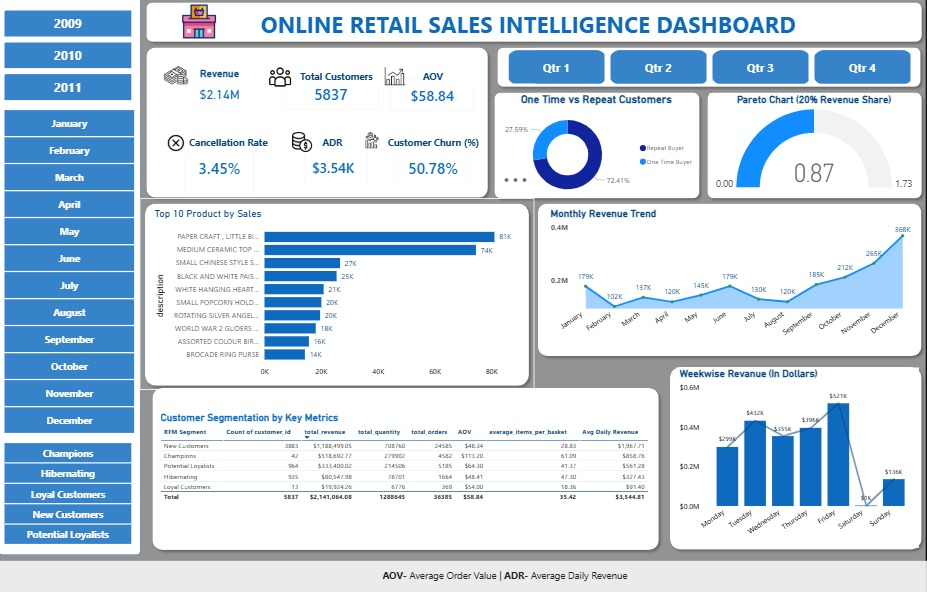

The dashboard page shown, as its layout file describes it:
{"tool":"powerbi","page":{"name":"Page 1","canvas":[1560,1000],"ordinal":0},"visuals":[{"type":"shape","box":[830.1,149.7,359.7,194.4],"z":1000},{"type":"shape","box":[248.8,75.8,587.1,268.3],"z":2000},{"type":"card","title":"Revenue","fields":{"Values":["online_retail_data.total_revenue"]},"box":[294,118,172,68],"z":3000},{"type":"shape","box":[248.8,0,1310.3,83.6],"z":4000},{"type":"textbox","box":[248,14,1296,70],"z":5000},{"type":"shape","box":[836,75.8,723.2,83.6],"z":6000},{"type":"cardVisual","title":"Total Customers","fields":{"Data":["Count(online_retail_data.customer_id)"]},"box":[468,116,196,90],"z":7000},{"type":"cardVisual","title":"Average Order Value","fields":{"Data":["online_retail_data.AOV"]},"box":[647.4,116.6,175,89.4],"z":8000},{"type":"donutChart","title":"One Time vs Repeat Customers","fields":{"Category":["Customer_Type_Table.Buyer Type"],"Y":["Sum(Customer_Type_Table.customer_id)"]},"box":[836,159.4,348,184.7],"z":9000},{"type":"textbox","box":[709.1,114.9,97.2,35.3],"z":10000},{"type":"textbox","box":[509.3,114.7,153.6,35],"z":11000},{"type":"cardVisual","fields":{"Data":["online_retail_data.Avg Daily Revenue"]},"box":[504,236,140,94],"z":12000},{"type":"textbox","box":[542.4,225.5,62.2,42.8],"z":13000},{"type":"cardVisual","fields":{"Data":["Customer_Recency_Table.Churned Customers %"]},"box":[654,242,162,80],"z":14000},{"type":"textbox","box":[647.4,225.5,175,36.9],"z":15000},{"type":"shape","box":[13.3,0,236.7,930],"z":16000},{"type":"shape","box":[248,334,658,322],"z":17000},{"type":"shape","box":[902.1,334.4,657.1,272.2],"z":18000},{"type":"shape","box":[260,642,862,288],"z":20000},{"type":"shape","box":[1122.3,607.5,437.4,322.5],"z":21000},{"type":"shape","box":[1183.9,149.7,375.2,194.4],"z":22000},{"type":"shape","box":[0,930.1,1800.5,70.7],"z":23000},{"type":"textbox","box":[648,948,852,52],"z":24000},{"type":"image","box":[248.8,108.9,116.6,40.8],"z":25000},{"type":"image","box":[482.1,225.5,71.9,33],"z":26000},{"type":"image","box":[456.9,114.7,48.6,36.9],"z":27000},{"type":"image","box":[634,114,76,34],"z":28000},{"type":"image","box":[293.6,13.6,108.9,56.4],"z":29000},{"type":"gauge","title":"Pareto Chart (20% Revenue Share)","fields":{"Y":["online_retail_data.top_20_revenue_share"]},"box":[1197.6,159.4,348,169.1],"z":30000},{"type":"cardVisual","fields":{"Data":["online_retail_data.cancellation_rate"]},"box":[304,220,150,124],"z":31000},{"type":"textbox","box":[326,226,152,36],"z":32000},{"type":"image","box":[293.6,225.5,31.1,36.9],"z":33000},{"type":"image","box":[604.6,225.5,60.3,27.2],"z":34000},{"type":"advancedSlicerVisual","fields":{"Values":["online_retail_data.Order Date.Variation.Date Hierarchy.Year"]},"box":[13.3,13.3,232,170.1],"z":35000},{"type":"advancedSlicerVisual","fields":{"Values":["online_retail_data.Order Date.Variation.Date Hierarchy.Month"]},"box":[13.3,183.3,236.7,553.3],"z":36000},{"type":"advancedSlicerVisual","fields":{"Values":["online_retail_data.Order Date.Variation.Date Hierarchy.Quarter"]},"box":[853.5,83.6,692.1,68],"z":37000},{"type":"lineChart","title":"Monthly Revenue Trend","fields":{"Y":["online_retail_data.total_revenue"],"Category":["online_retail_data.Order Date.Variation.Date Hierarchy.Month"]},"box":[928,350,616,236],"z":38000},{"type":"lineStackedColumnComboChart","title":"Weekwise Revanue (In Dollars)","fields":{"Category":["online_retail_data.day_name"],"Y":["online_retail_data.total_revenue"],"Y2":["online_retail_data.total_revenue"]},"box":[1142.1,618.6,404.3,300.4],"z":39000},{"type":"advancedSlicerVisual","fields":{"Values":["RFM Table.RFM Segment"]},"box":[13.3,738.3,231.7,180],"z":41000},{"type":"clusteredBarChart","title":"Top 10 Product by Sales","fields":{"Category":["online_retail_data.description"],"Y":["online_retail_data.total_quantity"]},"box":[268,350,618,292],"z":42000},{"type":"tableEx","title":"Customer Segmentation by Key Metrics","fields":{"Values":["RFM Table.RFM Segment","Count(RFM Table.customer_id)","online_retail_data.total_revenue","online_retail_data.total_quantity","online_retail_data.total_orders","online_retail_data.AOV","online_retail_data.average_items_per_basket","online_retail_data.Avg Daily Revenue"]},"box":[278,674,826,226],"z":43000}]}

Visuals, with their boxes in screenshot pixels (x1, y1, x2, y2), scaled from the page's 1560x1000 canvas onto the 927x592 screenshot:
shape: bbox(493, 89, 707, 204)
shape: bbox(148, 45, 497, 204)
"Revenue" card: bbox(175, 70, 277, 110)
shape: bbox(148, 0, 926, 49)
textbox: bbox(147, 8, 917, 50)
shape: bbox(497, 45, 926, 94)
"Total Customers" cardVisual: bbox(278, 69, 395, 122)
"Average Order Value" cardVisual: bbox(385, 69, 489, 122)
"One Time vs Repeat Customers" donutChart: bbox(497, 94, 704, 204)
textbox: bbox(421, 68, 479, 89)
textbox: bbox(303, 68, 394, 89)
cardVisual - online_retail_data.Avg Daily Revenue: bbox(299, 140, 383, 195)
textbox: bbox(322, 133, 359, 159)
cardVisual - Customer_Recency_Table.Churned Customers %: bbox(389, 143, 485, 191)
textbox: bbox(385, 133, 489, 155)
shape: bbox(8, 0, 149, 551)
shape: bbox(147, 198, 538, 388)
shape: bbox(536, 198, 926, 359)
shape: bbox(154, 380, 667, 551)
shape: bbox(667, 360, 926, 551)
shape: bbox(704, 89, 926, 204)
shape: bbox(0, 551, 926, 591)
textbox: bbox(385, 561, 891, 591)
image: bbox(148, 64, 217, 89)
image: bbox(286, 133, 329, 153)
image: bbox(272, 68, 300, 90)
image: bbox(377, 67, 422, 88)
image: bbox(174, 8, 239, 41)
"Pareto Chart (20% Revenue Share)" gauge: bbox(712, 94, 918, 194)
cardVisual - online_retail_data.cancellation_rate: bbox(181, 130, 270, 204)
textbox: bbox(194, 134, 284, 155)
image: bbox(174, 133, 193, 155)
image: bbox(359, 133, 395, 150)
advancedSlicerVisual - online_retail_data.Order Date.Variation.Date Hierarchy.Year: bbox(8, 8, 146, 109)
advancedSlicerVisual - online_retail_data.Order Date.Variation.Date Hierarchy.Month: bbox(8, 109, 149, 436)
advancedSlicerVisual - online_retail_data.Order Date.Variation.Date Hierarchy.Quarter: bbox(507, 49, 918, 90)
"Monthly Revenue Trend" lineChart: bbox(551, 207, 917, 347)
"Weekwise Revanue (In Dollars)" lineStackedColumnComboChart: bbox(679, 366, 919, 544)
advancedSlicerVisual - RFM Table.RFM Segment: bbox(8, 437, 146, 544)
"Top 10 Product by Sales" clusteredBarChart: bbox(159, 207, 526, 380)
"Customer Segmentation by Key Metrics" tableEx: bbox(165, 399, 656, 533)
